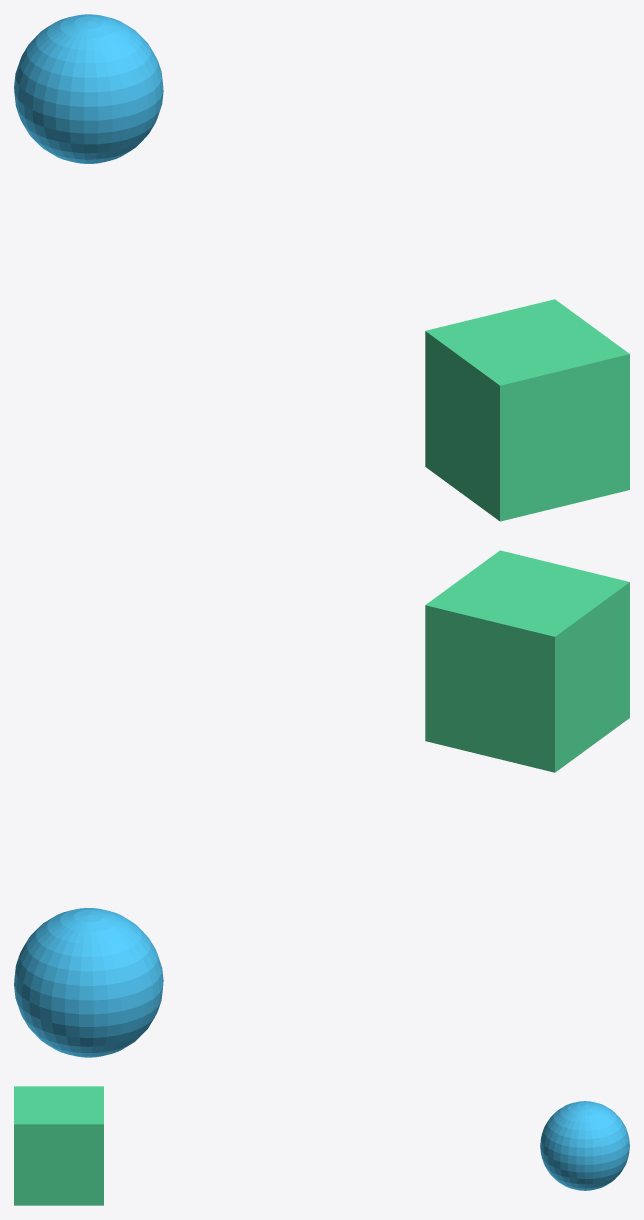
File: 3dmodel.glb
3 views of the same model, one above another, from view 1: azimuth 30°, elevation 25°; view 2: azimuth 150°, elevation 25°; view 3: azimuth 270°, elevation 25° (orthographic). The views are drawn at different scales.
Parts seen in each view (by area): view 1: agent, target; view 2: agent, target; view 3: agent, target.
Part boxes in pixels (x1,y1,x2,y2): agent: (425,299,629,521); target: (14,14,163,163); agent: (425,550,629,772); target: (14,908,163,1057); agent: (14,1086,103,1205); target: (540,1101,629,1190).
Size of what is drawn, in the model's own units: 1 by 1 by 6.85.
